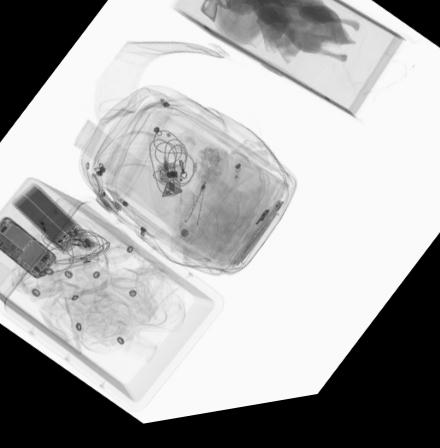Powerbank: (8, 181, 87, 259)
